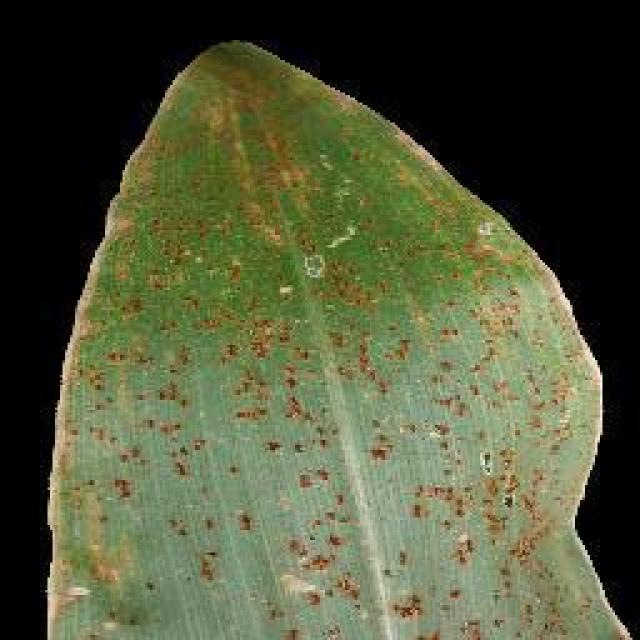Corn Common Rust: (121, 147, 546, 628)
